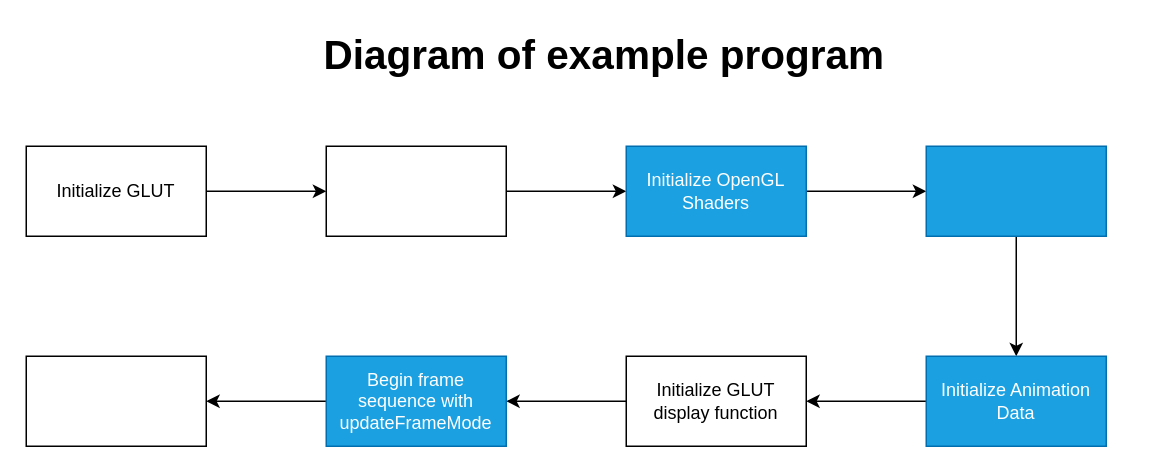
This 1170x473 diagram has some shape labels left out. The centre of each missing label's shape, as x and y in pixels:
"GLUT main loop" goes at (x=115, y=400).
"Initialize GLEW" goes at (x=415, y=190).
"Initialize OpenGL Data" goes at (x=1015, y=190).
